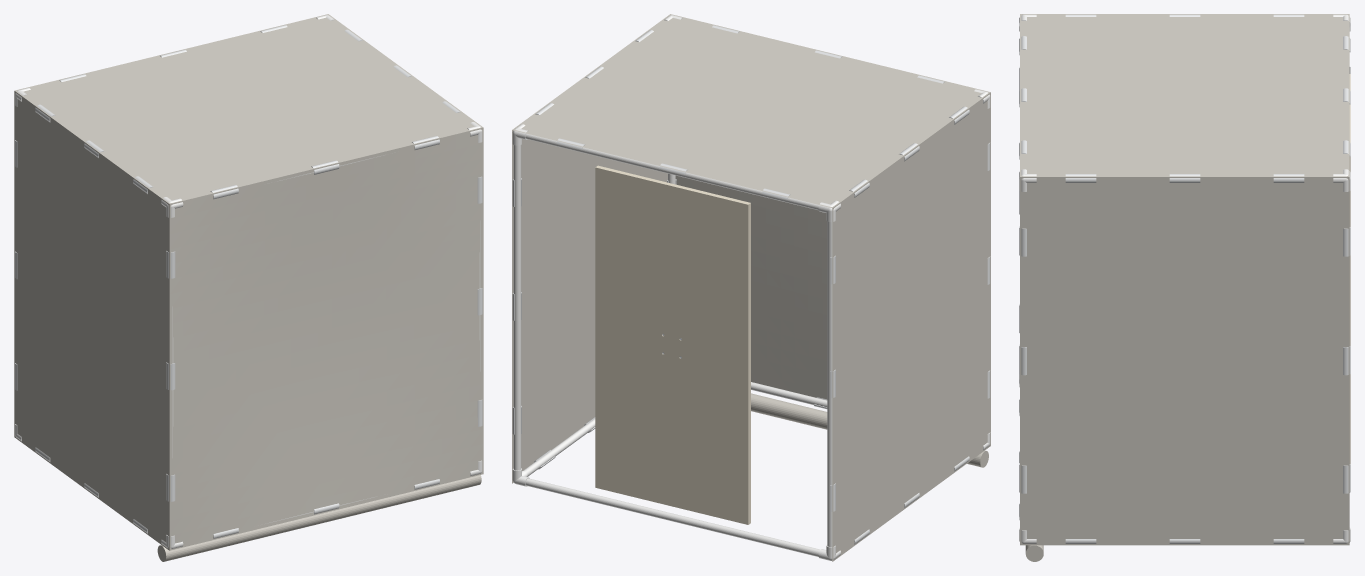
The model's file is enclosure.glb.
The picture shows the model from 3 angles, left to right: view 1: azimuth 30°, elevation 25°; view 2: azimuth 150°, elevation 25°; view 3: azimuth 270°, elevation 25°; orthographic projection. The views are drawn at different scales.
Parts seen in each view (by area): view 1: canvas-25, canvas-26, canvas-28, front-flap-rolled; view 2: canvas-26, plywood-base-24x48in-0, canvas-28, canvas-27, canvas-25, pipe-1289mm-19, pipe-1219mm-13, pipe-1289mm-17, front-flap-rolled, pipe-1219mm-15, pipe-1035mm-23, pipe-1219mm-14; view 3: canvas-27, canvas-28, plywood-base-24x48in-0.
Part boxes in pixels (x1,y1,x2,y2): canvas-25: (169,127,483,550); canvas-26: (14,91,169,550); canvas-28: (15,14,483,203); front-flap-rolled: (157,475,481,561); canvas-26: (832,92,990,561); plywood-base-24x48in-0: (595,165,750,524); canvas-28: (512,14,990,207); canvas-27: (512,130,667,483); canvas-25: (675,175,827,399); pipe-1289mm-19: (513,145,521,470); pipe-1219mm-13: (525,478,819,556); pipe-1289mm-17: (827,221,832,546); front-flap-rolled: (751,393,988,467); pipe-1219mm-15: (525,133,818,210); pipe-1035mm-23: (523,418,595,476); pipe-1219mm-14: (751,382,827,406); canvas-27: (1020,177,1349,545); canvas-28: (1020,14,1349,176); plywood-base-24x48in-0: (1349,74,1350,464).
Bounding box in the file's own units: 1.28 × 1.41 × 1.1.
